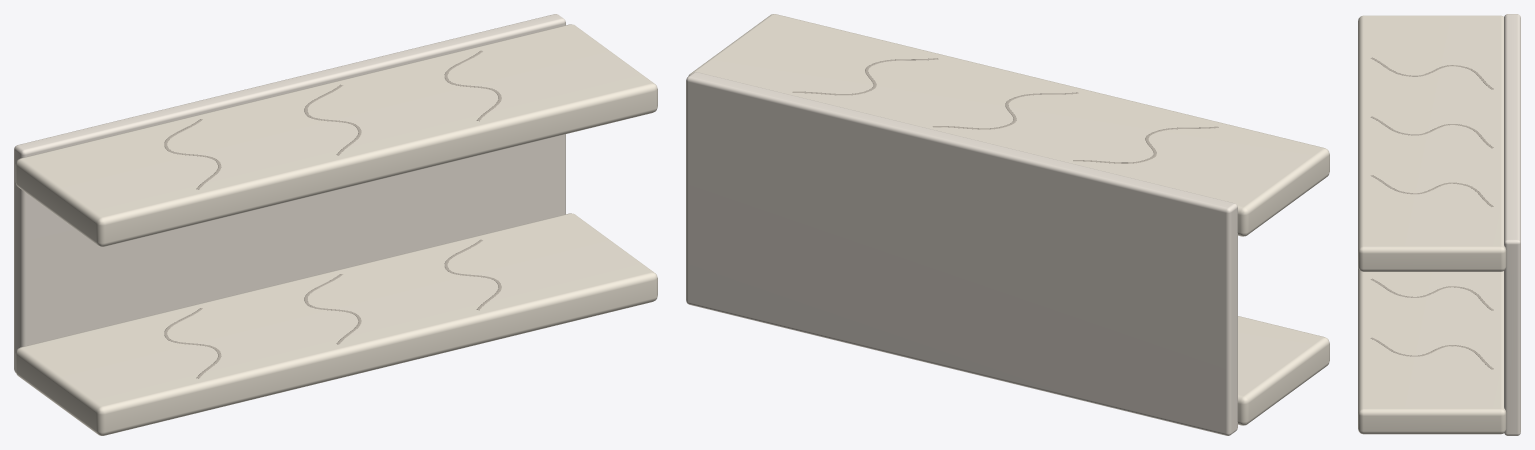
The model's file is kitchenModernShelfWhite.glb.
3 renders of one model, left to right at view 1: azimuth 30°, elevation 25°; view 2: azimuth 150°, elevation 25°; view 3: azimuth 270°, elevation 25°, orthographic. The views are drawn at different scales.
Visible parts, largest first — view 1: Wall shelf.001, Wall shelf, Wall backplate; view 2: Wall backplate, Wall shelf.001, Wall shelf; view 3: Wall shelf.001, Wall shelf, Wall backplate, Fine stone vein.002, Fine stone vein.001, Fine stone vein.003, Fine stone vein.005, Fine stone vein.004.
Boxes of the visible parts, bbox=[...] form: Wall shelf.001: bbox=[15, 24, 657, 246]; Wall shelf: bbox=[15, 213, 657, 435]; Wall backplate: bbox=[14, 14, 565, 372]; Wall backplate: bbox=[686, 72, 1237, 435]; Wall shelf.001: bbox=[688, 14, 1329, 236]; Wall shelf: bbox=[1237, 316, 1329, 425]; Wall shelf.001: bbox=[1358, 15, 1506, 271]; Wall shelf: bbox=[1358, 267, 1506, 434]; Wall backplate: bbox=[1504, 14, 1520, 435]; Fine stone vein.002: bbox=[1370, 337, 1493, 369]; Fine stone vein.001: bbox=[1370, 278, 1493, 310]; Fine stone vein.003: bbox=[1370, 57, 1493, 89]; Fine stone vein.005: bbox=[1370, 175, 1493, 206]; Fine stone vein.004: bbox=[1370, 116, 1493, 148].
Size of the model in its own units: 1.8 by 0.705 by 0.5275.
